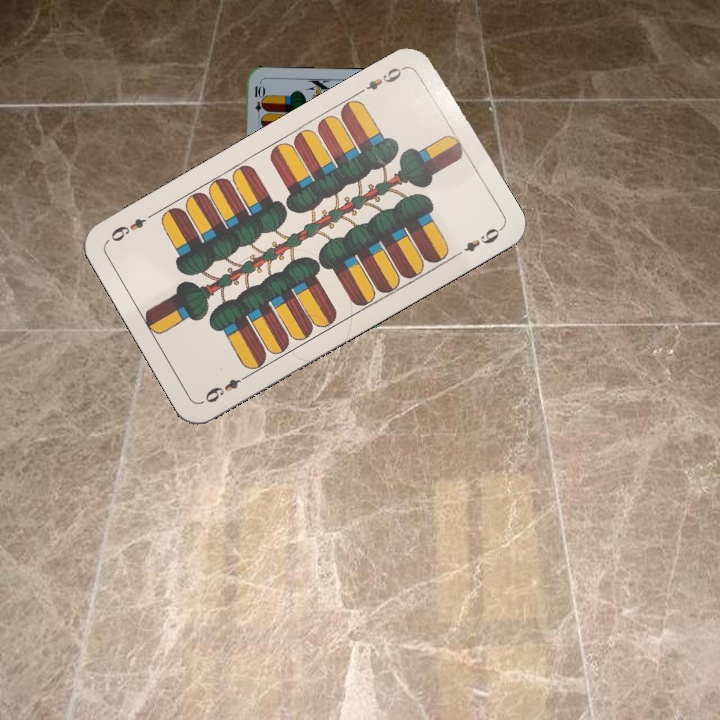E10: (250, 81, 265, 122)
E9: (198, 370, 252, 406), (355, 62, 409, 97)
